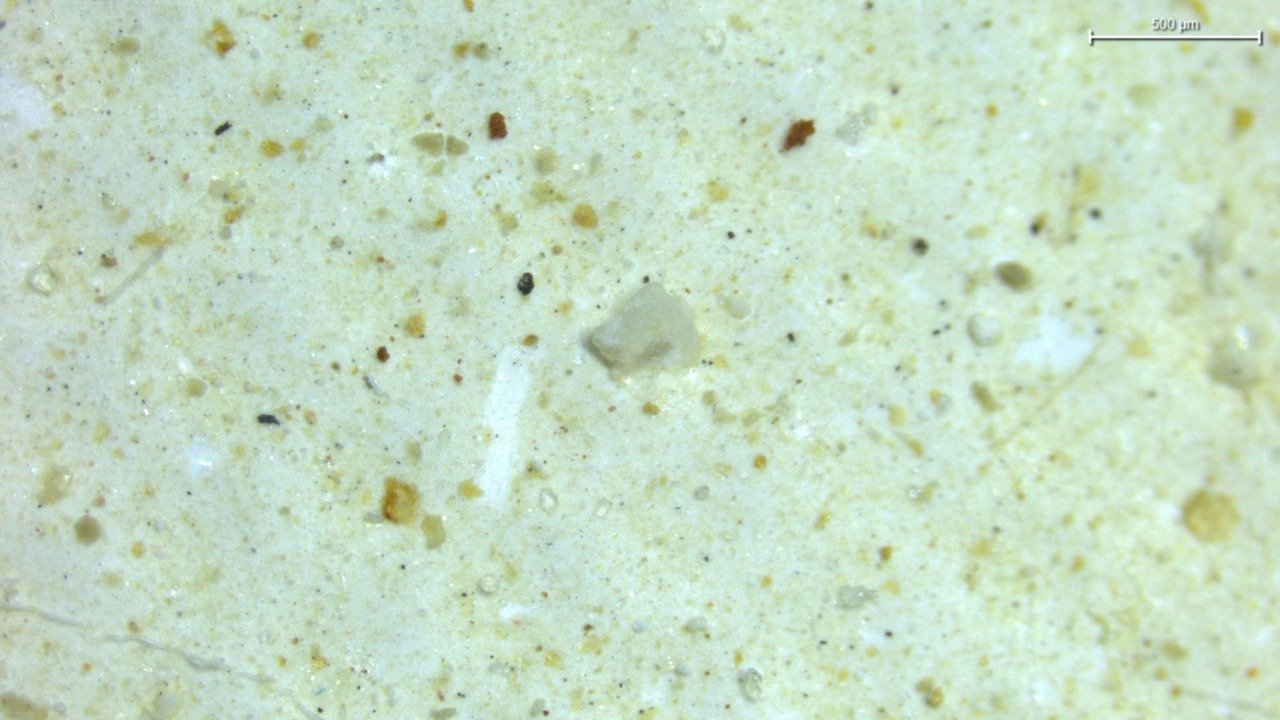microplastic_fragment: (581, 277, 701, 381)
